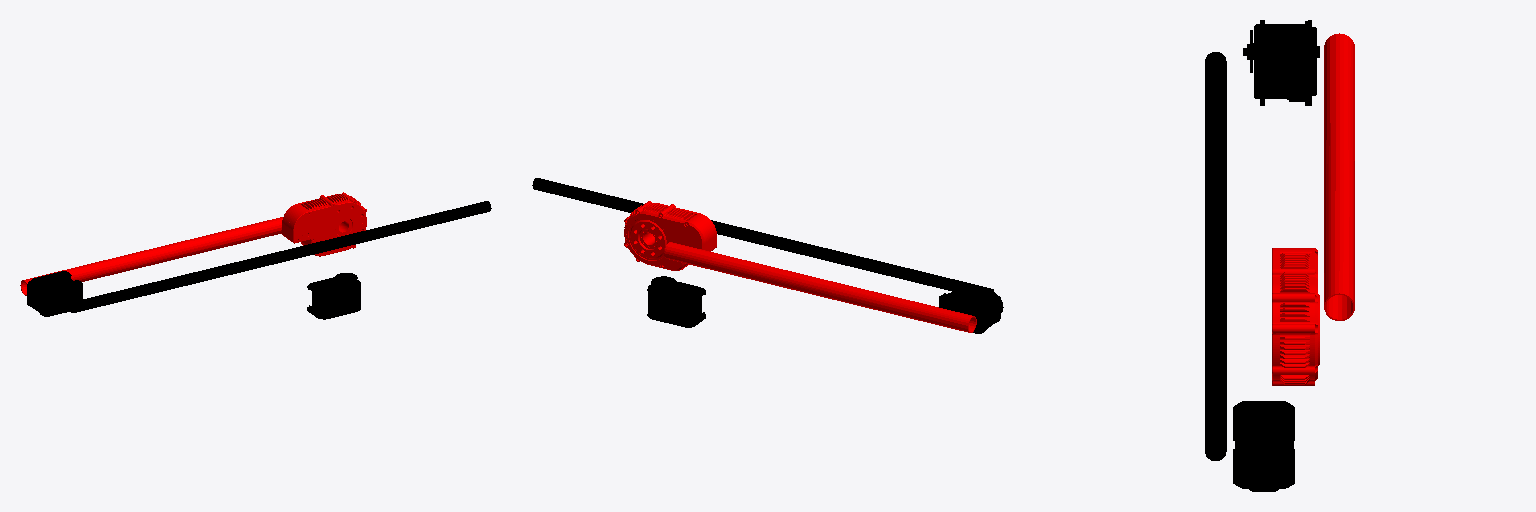
The robot description file, URDF, robot "arm":
<?xml version="1.0" ?>
<!-- =================================================================================== -->
<!-- |    This document was autogenerated by xacro from catkin_ws/src/mav_arm_force_controlled/src/thirdmodel.urdf.xacro | -->
<!-- |    EDITING THIS FILE BY HAND IS NOT RECOMMENDED                                 | -->
<!-- =================================================================================== -->
<robot name="arm" xmlns:xacro="http://ros.org/wiki/xacro">
  <!-- Material and Colors-->
  <material name="black">
    <color rgba="0.0 0.0 0.0 1.0"/>
  </material>
  <material name="dark_grey">
    <color rgba="0.411764705882 {105/255} 0.411764705882 1.0"/>
  </material>
  <material name="grey">
    <color rgba="0.501960784314 0.501960784314 0.501960784314 1.0"/>
  </material>
  <material name="light_grey">
    <color rgba="0.866666666667 0.866666666667 0.866666666667 1"/>
  </material>
  <material name="white">
    <color rgba="1.0 1.0 1.0 1.0"/>
  </material>
  <material name="red">
    <color rgba="1.0 0.0 0.0 1.0"/>
  </material>
  <!-- The Mass and inertia elements are defined before the link element-->
  <link name="baseplate">
    <visual>
      <geometry>
        <mesh filename="package://mav_arm_force_controlled/meshes/baseplate.stl" scale="0.001 0.001 0.001"/>
      </geometry>
      <origin rpy="0 0 0" xyz="0 0 0"/>
      <!--<origin rpy="0 0 0" xyz="${Baseplate_cog_x} ${Baseplate_cog_y} ${Baseplate_cog_z}"/>-->
      <material name="black"/>
    </visual>
    <inertia>
      <mass value="0.040063354"/>
      <inertia ixx="6.3973e-05" ixy="0" ixz="5.877e-06" iyy="0.000151767" iyz="0" izz="0.000214186"/>
    </inertia>
  </link>
  <joint name="baseplate_to_actuator3" type="fixed">
    <parent link="baseplate"/>
    <child link="actuator3"/>
    <origin rpy="0 0 -1.57076345" xyz="0.048 0 0.022"/>
  </joint>
  <link name="actuator3">
    <visual>
      <geometry>
        <mesh filename="package://mav_arm_force_controlled/meshes/dynamixel.stl" scale="0.001 0.001 0.001"/>
      </geometry>
      <origin rpy="0 0 0" xyz="0 0 0"/>
      <material name="black"/>
    </visual>
    <inertia>
      <origin xyz="dynamixel_cog_x dynamixel_cog_y dynamixel_cog_z"/>
      <mass value="0.126"/>
      <inertia ixx="0" ixy="0" ixz="0" iyy="4.7045e-05" iyz="1.4e-06" izz="0.000115625"/>
    </inertia>
  </link>
  <joint name="actuator3_to_connectingplate" type="continuous">
    <axis rpy="0 0 0" xyz="0 0 1"/>
    <parent link="actuator3"/>
    <child link="connectingbox"/>
    <origin rpy="0 0 3.1415269" xyz="0 0 0.027"/>
    <limit effort="30" velocity="1.0"/>
  </joint>
  <transmission name="actuator3_dynamixel">
    <type>transmission_interface/SimpleTransmission</type>
    <actuator name="$actuator3_dynamixel">
      <mechanicalReduction>1</mechanicalReduction>
    </actuator>
    <joint name="actuator3_to_connectingplate">
      <hardwareInterface>PositionJointInterface</hardwareInterface>
    </joint>
  </transmission>
  <link name="connectingbox">
    <visual>
      <geometry>
        <mesh filename="package://mav_arm_force_controlled/meshes/connecting.stl" scale="0.001 0.001 0.001"/>
      </geometry>
      <origin rpy="0 0 0" xyz="0 0 0"/>
      <material name="black"/>
    </visual>
    <inertia>
      <mass value="0.01"/>
      <inertia ixx="0.001105121" ixy="1.6e-08" ixz="0" iyy="0.001002814" iyz="7.088e-06" izz="0.000170487"/>
    </inertia>
  </link>
  <joint name="connectingbox_to_actuator2" type="fixed">
    <parent link="connectingbox"/>
    <child link="actuator2"/>
    <origin rpy="1.57076345 0 1.57076345" xyz="0.02 0 0.0635"/>
  </joint>
  <link name="actuator2">
    <visual>
      <geometry>
        <mesh filename="package://mav_arm_force_controlled/meshes/hebi.stl" scale="0.001 0.001 0.001"/>
      </geometry>
      <origin rpy="0 0 0" xyz="0 0 0"/>
      <material name="red"/>
    </visual>
    <inertia>
      <mass value="actuator2_mass"/>
      <inertia ixx="0.000186786" ixy="4.1556e-05" ixz="2.73e-07" iyy="0.00043422" iyz="2.9e-07" izz="0.000554524"/>
    </inertia>
  </link>
  <joint name="actuator2_to_clamp3" type="continuous">
    <axis rpy="0 0 0" xyz="0 1 0"/>
    <parent link="actuator2"/>
    <child link="clamp3"/>
    <origin rpy="1.57076345 0 -1.57076345" xyz="0 0 0.01605"/>
    <limit effort="30" velocity="1.0"/>
  </joint>
  <transmission name="actuator2_hebi">
    <type>transmission_interface/SimpleTransmission</type>
    <actuator name="$actuator2_hebi">
      <mechanicalReduction>1</mechanicalReduction>
    </actuator>
    <joint name="actuator2_to_clamp3">
      <hardwareInterface>PositionJointInterface</hardwareInterface>
    </joint>
  </transmission>
  <link name="clamp3">
    <visual>
      <geometry>
        <mesh filename="package://mav_arm_force_controlled/meshes/hebitotube2.stl" scale="0.001 0.001 0.001"/>
      </geometry>
      <origin rpy="0 0 0" xyz="0 0 0"/>
      <material name="black"/>
    </visual>
    <collision>
      <geometry>
        <sphere radius="0.02"/>
      </geometry>
    </collision>
    <inertia>
      <mass value="0.21"/>
      <inertia ixx="0.000524947" ixy="1.7e-08" ixz="-4e-08" iyy="0.000535726" iyz="-9.2479e-05" izz="7.4342e-05"/>
    </inertia>
  </link>
  <joint name="clamp3_to_tube2" type="fixed">
    <parent link="clamp3"/>
    <child link="tube2"/>
    <origin rpy="0 3.1415269 0" xyz="0 0.013 -0.035"/>
  </joint>
  <link name="tube2">
    <visual>
      <geometry>
        <mesh filename="package://mav_arm_force_controlled/meshes/tube2.stl" scale="0.001 0.001 0.001"/>
      </geometry>
      <origin rpy="0 0 0" xyz="0 0 0"/>
      <material name="red"/>
    </visual>
    <inertia>
      <mass value="tube2_mass"/>
      <inertia ixx="0.002039156" ixy="0" ixz="0" iyy="0.002039156" iyz="0" izz="3.457e-06"/>
    </inertia>
  </link>
  <joint name="tube2_to_clamp2" type="fixed">
    <parent link="tube2"/>
    <child link="clamp2"/>
    <origin rpy="1.57076345 0 -3.1415269" xyz="0 -0.018 0.345"/>
  </joint>
  <link name="clamp2">
    <visual>
      <geometry>
        <mesh filename="package://mav_arm_force_controlled/meshes/tube2todynamixel.stl" scale="0.001 0.001 0.001"/>
      </geometry>
      <origin rpy="0 0 0" xyz="0 0 0"/>
      <material name="black"/>
    </visual>
    <inertia>
      <mass value="clamp2_mass"/>
      <inertia ixx="0.00019462" ixy="0" ixz="0" iyy="6.7787e-05" iyz="6.0459e-05" izz="0.000173715"/>
    </inertia>
  </link>
  <joint name="clamp2_to_actuator1" type="fixed">
    <parent link="clamp2"/>
    <child link="actuator1"/>
    <origin rpy="0 3.1415269 0" xyz="0 0.0481 -0.017"/>
  </joint>
  <link name="actuator1">
    <visual>
      <geometry>
        <mesh filename="package://mav_arm_force_controlled/meshes/dynamixel.stl" scale="0.001 0.001 0.001"/>
      </geometry>
      <origin rpy="0 0 0" xyz="0 0 0"/>
      <material name="black"/>
    </visual>
    <inertia>
      <mass value="actuator1_mass"/>
      <inertia ixx="0.000129338" ixy="0" ixz="0" iyy="4.7045e-05" iyz="1.4e-06" izz="0.000115625"/>
    </inertia>
  </link>
  <joint name="actuator1_to_clamp1" type="continuous">
    <axis rpy="0 0 0" xyz="0 0 1"/>
    <parent link="actuator1"/>
    <child link="clamp1"/>
    <origin rpy="0 0 -1.57076345" xyz="0 0 0.0235"/>
    <limit effort="30" velocity="1.0"/>
  </joint>
  <transmission name="actuator1_dynamixel">
    <type>transmission_interface/SimpleTransmission</type>
    <actuator name="$actuator1_dynamixel">
      <mechanicalReduction>1</mechanicalReduction>
    </actuator>
    <joint name="actuator1_to_clamp1">
      <hardwareInterface>PositionJointInterface</hardwareInterface>
    </joint>
  </transmission>
  <link name="clamp1">
    <visual>
      <geometry>
        <mesh filename="package://mav_arm_force_controlled/meshes/dynamixeltotube1.stl" scale="0.001 0.001 0.001"/>
      </geometry>
      <origin rpy="0 0 0" xyz="0 0 0"/>
      <material name="red"/>
    </visual>
    <inertia>
      <mass value="clamp1_mass"/>
      <inertia ixx="4.5773e-05" ixy="-3e-08" ixz="2.2588e-05" iyy="7.9456e-05" iyz="1e-09" izz="7.801e-05"/>
    </inertia>
  </link>
  <joint name="clamp1_to_tube1" type="fixed">
    <parent link="clamp1"/>
    <child link="tube1"/>
    <origin rpy="0 1.57076345 0" xyz="0.015 0 0.022"/>
  </joint>
  <link name="tube1">
    <visual>
      <geometry>
        <mesh filename="package://mav_arm_force_controlled/meshes/tube1.stl" scale="0.001 0.001 0.001"/>
      </geometry>
      <origin rpy="0 0 0" xyz="0 0 0"/>
      <material name="black"/>
    </visual>
    <inertia>
      <mass value="tube1_mass"/>
      <inertia ixx="0.002443367" ixy="0" ixz="0" iyy="0.002443367" iyz="0" izz="9.29e-07"/>
    </inertia>
  </link>
  <joint name="tube1_to_tip" type="fixed">
    <parent link="tube1"/>
    <child link="tip"/>
    <origin rpy="0 0 0" xyz="0 0 0.6"/>
  </joint>
  <link name="tip">
    <visual>
      <geometry>
        <mesh filename="package://mav_arm_force_controlled/meshes/tip.stl" scale="0.001 0.001 0.001"/>
      </geometry>
      <origin rpy="0 0 0" xyz="0 0 0"/>
      <material name="white"/>
    </visual>
    <inertia>
      <mass value="tip_mass"/>
      <inertia ixx="7.58e-07" ixy="0" ixz="0" iyy="7.58e-07" iyz="0" izz="8e-07"/>
    </inertia>
  </link>
  <gazebo>
    <plugin filename="libgazebo_ros_control.so" name="gazebo_ros_control">
      <robotNamespace>/</robotNamespace>
    </plugin>
  </gazebo>
</robot>

--- Render facts (derived) ---
Views: 3 orthographic renders of the robot side by side, from view 1: azimuth 30°, elevation 25°; view 2: azimuth 150°, elevation 25°; view 3: azimuth 270°, elevation 25°.
Robot: arm — 11 links, 10 joints (3 continuous, 7 fixed); root link baseplate; default pose: every joint at zero.
Links seen in each view (by area): view 1: tube1, tube2, actuator2, actuator3, actuator1; view 2: tube2, tube1, actuator2, actuator3, actuator1; view 3: tube1, tube2, actuator2, actuator3, actuator1.
Boxes of the visible links, box(x1,y1,x2,y2) form: tube1: box(69, 201, 491, 312); tube2: box(20, 217, 282, 295); actuator2: box(282, 192, 366, 256); actuator3: box(307, 273, 360, 319); actuator1: box(27, 271, 82, 316); tube2: box(664, 242, 976, 332); tube1: box(532, 178, 993, 291); actuator2: box(624, 201, 716, 270); actuator3: box(647, 276, 705, 327); actuator1: box(939, 283, 1003, 333); tube1: box(1205, 52, 1226, 460); tube2: box(1324, 33, 1354, 320); actuator2: box(1272, 248, 1319, 385); actuator3: box(1233, 401, 1294, 491); actuator1: box(1243, 20, 1319, 105).
Size in the robot's own frame: 0.629 by 0.0975 by 0.149 metres.
Meshes: 10 distinct files referenced, 5 mesh visuals loaded (4 binary STL); not drawn: 6 (reference not matched to a file when rendering).